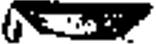Basket: (2, 0, 153, 43)
